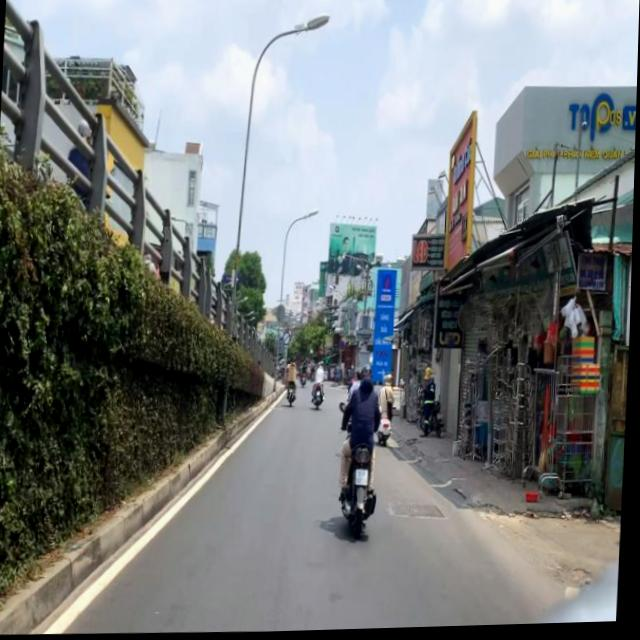Cam do xe: (340, 342, 347, 352)
